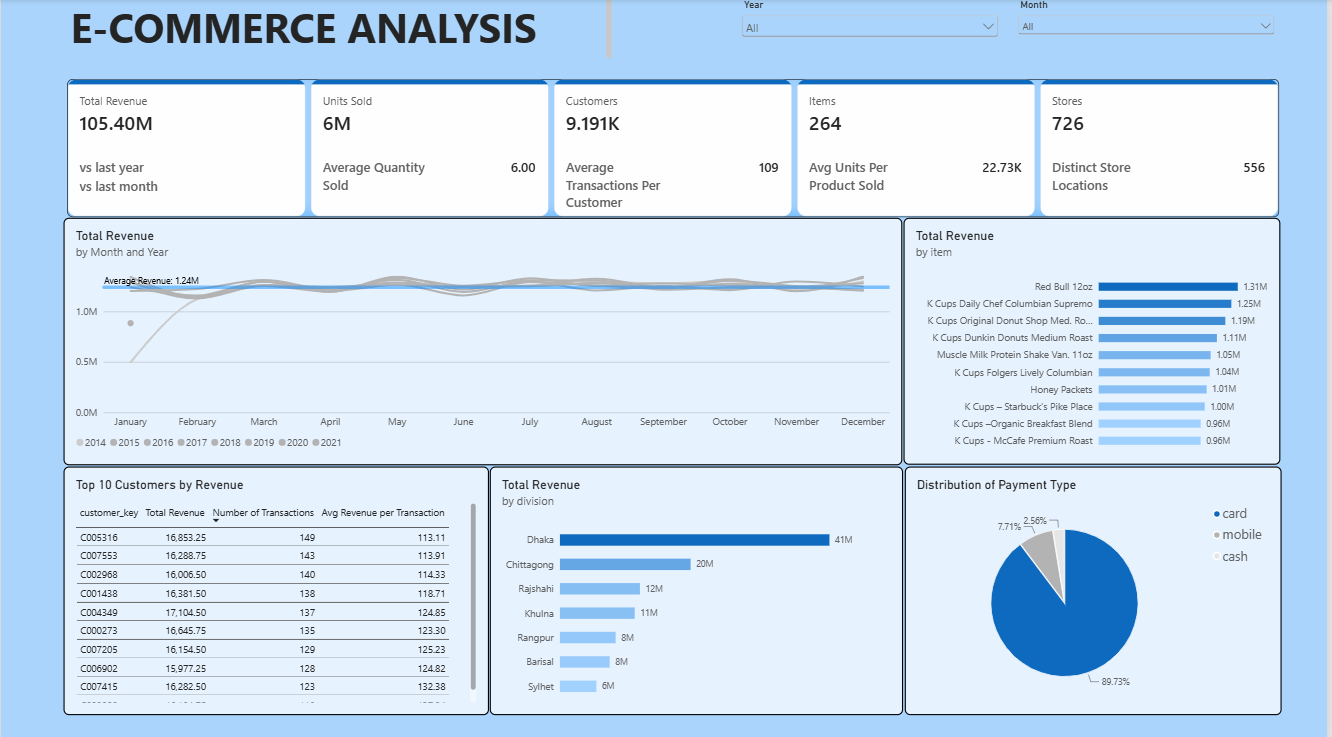

This screenshot's page, from the dashboard's own definition file:
{"tool":"powerbi","page":{"name":"Executive Overview","canvas":[1920,1080],"ordinal":0},"visuals":[{"type":"cardVisual","fields":{"Data":["fact_table_clean.Total Revenue","Sum(fact_table_clean.quantity)","Count(customer_dim_clean.customer_key)","Count(item_dim_clean.item_key)","Count(store_dim_clean.store_key)"]},"box":[96.4,116.7,1754,200],"z":0},{"type":"lineChart","fields":{"Category":["time_dim_clean.date.Variation.Date Hierarchy.Month"],"Y":["fact_table_clean.Total Revenue"],"Series":["time_dim_clean.date.Variation.Date Hierarchy.Year"]},"box":[91.3,317,1214.4,358.1],"z":1000},{"type":"slicer","fields":{"Values":["time_dim_clean.date.Variation.Date Hierarchy.Month"]},"box":[1467.6,0,380.8,90.6],"z":2000},{"type":"slicer","fields":{"Values":["time_dim_clean.date.Variation.Date Hierarchy.Year"]},"box":[1068.3,0,380.8,90.6],"z":3000},{"type":"clusteredBarChart","fields":{"Category":["item_dim_clean.item_name"],"Y":["fact_table_clean.Total Revenue"]},"box":[1306.2,317,545.3,357.6],"z":4000},{"type":"pieChart","title":"Distribution of Payment Type","fields":{"Category":["trans_dim_clean.trans_type"],"Y":["CountNonNull(fact_table_clean.payment_key)"]},"box":[1308.7,677.2,545.3,360.2],"z":5000},{"type":"clusteredBarChart","fields":{"Y":["fact_table_clean.Total Revenue"],"Category":["store_dim_clean.division"]},"box":[707.6,677.2,598.6,360.2],"z":6000},{"type":"tableEx","title":"Top 10 Customers by Revenue","fields":{"Values":["customer_dim_clean.customer_key","fact_table_clean.Total Revenue","fact_table_clean.Avg Transactions per Customer","fact_table_clean.Avg Revenue per Transaction"]},"box":[91.3,677.2,616.3,360.2],"z":7000},{"type":"textbox","box":[0,0,884,90],"z":8000}]}

Visuals, with their boxes in screenshot pixels (x1, y1, x2, y2), scaled from the page's 1920x1080 canvas onto the 1332x737 screenshot:
cardVisual - fact_table_clean.Total Revenue x Sum(fact_table_clean.quantity): region(67, 80, 1284, 216)
lineChart - time_dim_clean.date.Variation.Date Hierarchy.Month x fact_table_clean.Total Revenue: region(63, 216, 906, 461)
slicer - time_dim_clean.date.Variation.Date Hierarchy.Month: region(1018, 0, 1282, 62)
slicer - time_dim_clean.date.Variation.Date Hierarchy.Year: region(741, 0, 1005, 62)
clusteredBarChart - item_dim_clean.item_name x fact_table_clean.Total Revenue: region(906, 216, 1284, 460)
"Distribution of Payment Type" pieChart: region(908, 462, 1286, 708)
clusteredBarChart - fact_table_clean.Total Revenue x store_dim_clean.division: region(491, 462, 906, 708)
"Top 10 Customers by Revenue" tableEx: region(63, 462, 491, 708)
textbox: region(0, 0, 613, 61)
